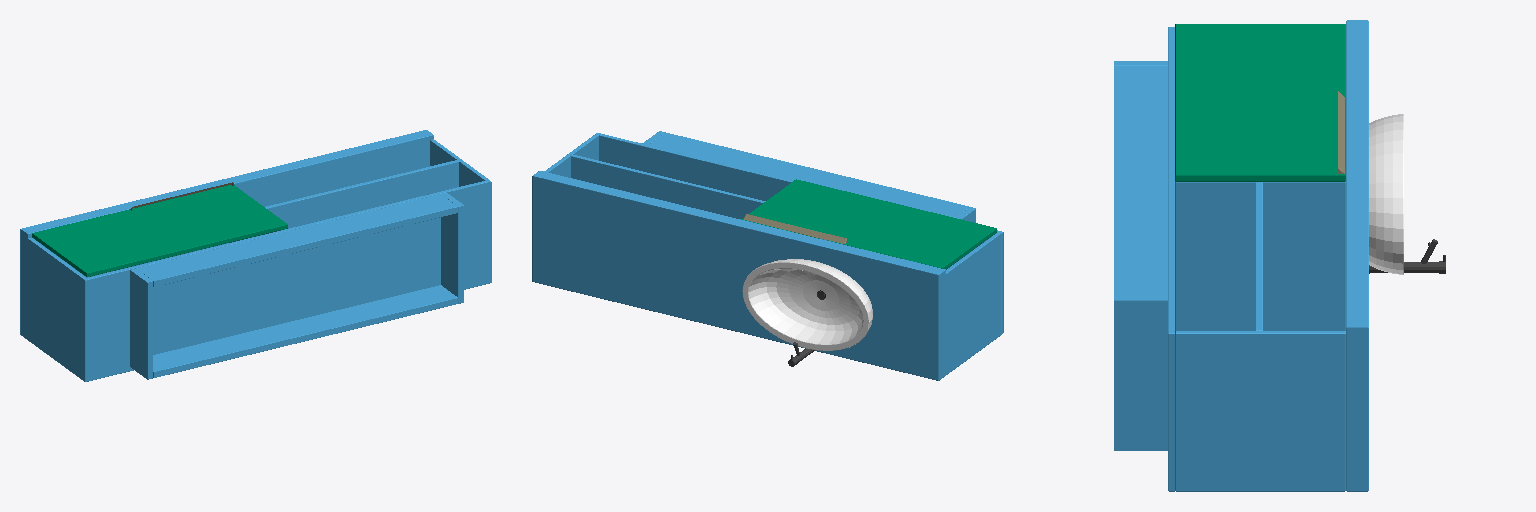
URDF robot description (447):
<robot name="447">


	<link name="0:virtual">
		<visual>
			<origin xyz="0.0 0.0 0.0" rpy="0 0 0"/>
			<geometry>
				<cylinder length="0" radius="0"/>
			</geometry>
		</visual>
	</link>


	<link name="1:static">
		<visual>
			<origin xyz="-0.0 -0.0 -0.0" rpy="0 0 0"/>
			<geometry>
				<mesh filename="../raw_data/447/part_meshes/1.dae" />
			</geometry>
		</visual>
	</link>


	<link name="2:cabinet door 1">
		<visual>
			<origin xyz="1.0000000000000038 -0.40500498563051224 -0.20861250907182693" rpy="0 0 0"/>
			<geometry>
				<mesh filename="../raw_data/447/part_meshes/2.dae" />
			</geometry>
		</visual>
	</link>


	<link name="3:faucet handle 1">
		<visual>
			<origin xyz="0.40092484551001406 -0.9062594771385193 0.22027550728729045" rpy="0 0 0"/>
			<geometry>
				<mesh filename="../raw_data/447/part_meshes/3.dae" />
			</geometry>
		</visual>
	</link>


	<link name="4:faucet spout 1">
		<visual>
			<origin xyz="0.39934399390220643 -0.8672209749221802 0.22236199676990512" rpy="0 0 0"/>
			<geometry>
				<mesh filename="../raw_data/447/part_meshes/4.dae" />
			</geometry>
		</visual>
	</link>


	<joint name="0:virtual::1:static" type="fixed">
		<parent link="0:virtual"/>
		<child link="1:static"/>
		<origin xyz="0.0 0.0 0.0" rpy="0 0 0"/>
	</joint>


	<joint name="0:virtual::2:cabinet door 1_rotation" type="revolute">
		<parent link="0:virtual"/>
		<child link="2:cabinet door 1"/>
		<origin xyz="-1.0000000000000038 0.40500498563051224 0.20861250907182693" rpy="0 0 0"/>
		<limit lower="-1.8692476288859268" upper="0.0" effort="10" velocity="3"/>
		<axis xyz="0.0 1.0 0.0"/>
	</joint>


	<joint name="0:virtual::3:faucet handle 1_rotation" type="revolute">
		<parent link="0:virtual"/>
		<child link="3:faucet handle 1"/>
		<origin xyz="-0.40092484551001406 0.9062594771385193 -0.22027550728729045" rpy="0 0 0"/>
		<limit lower="-0.6597344572538565" upper="0.26703537555513246" effort="10" velocity="3"/>
		<axis xyz="0.0 1.0 0.0"/>
	</joint>


	<joint name="0:virtual::4:faucet spout 1_rotation" type="revolute">
		<parent link="0:virtual"/>
		<child link="4:faucet spout 1"/>
		<origin xyz="-0.39934399390220643 0.8672209749221802 -0.22236199676990512" rpy="0 0 0"/>
		<limit lower="-0.2827433388230814" upper="0.37699111843077515" effort="10" velocity="3"/>
		<axis xyz="0.0 1.0 0.0"/>
	</joint>


</robot>

--- What the picture shows (computed from the rendered views, not written in the file) ---
The picture shows the robot from 3 angles, left to right: view 1: azimuth 30°, elevation 25°; view 2: azimuth 150°, elevation 25°; view 3: azimuth 270°, elevation 25°; orthographic projection.
Robot: 447 — 5 links, 4 joints (3 revolute, 1 fixed); root link 0:virtual; default pose: every joint at zero.
Links seen in each view (by area): view 1: 1:static, 2:cabinet door 1; view 2: 1:static, 2:cabinet door 1; view 3: 1:static, 2:cabinet door 1.
Boxes of the visible links, x1,y1,x2,y2 form: 1:static: [20, 130, 491, 381]; 2:cabinet door 1: [32, 182, 287, 276]; 1:static: [532, 131, 1003, 380]; 2:cabinet door 1: [741, 179, 996, 268]; 1:static: [1114, 20, 1438, 491]; 2:cabinet door 1: [1175, 24, 1345, 181].
Bounding box of the posed robot: 2 × 0.9161 × 0.5203 m (x, y, z).
4 mesh visuals loaded from 4 distinct referenced files (4 Collada DAE).